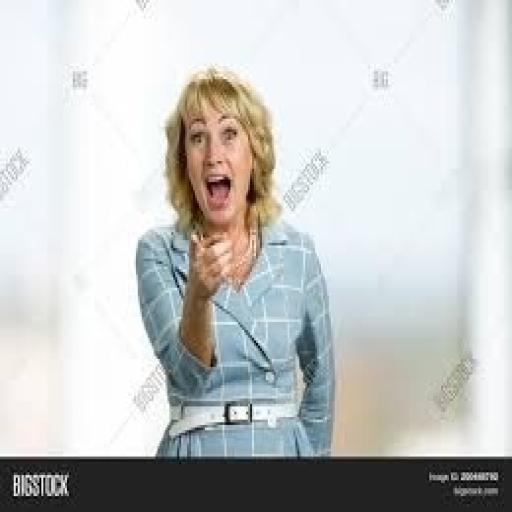laughing: (124, 56, 345, 456)
